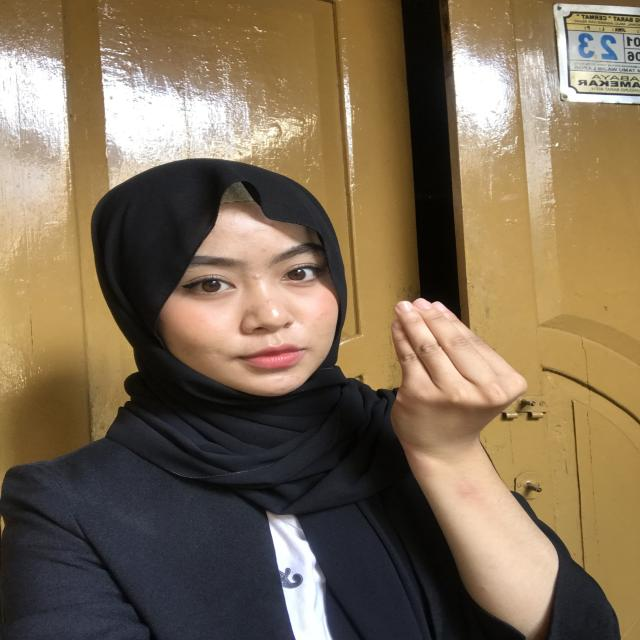kapan: (370, 282, 554, 508)
